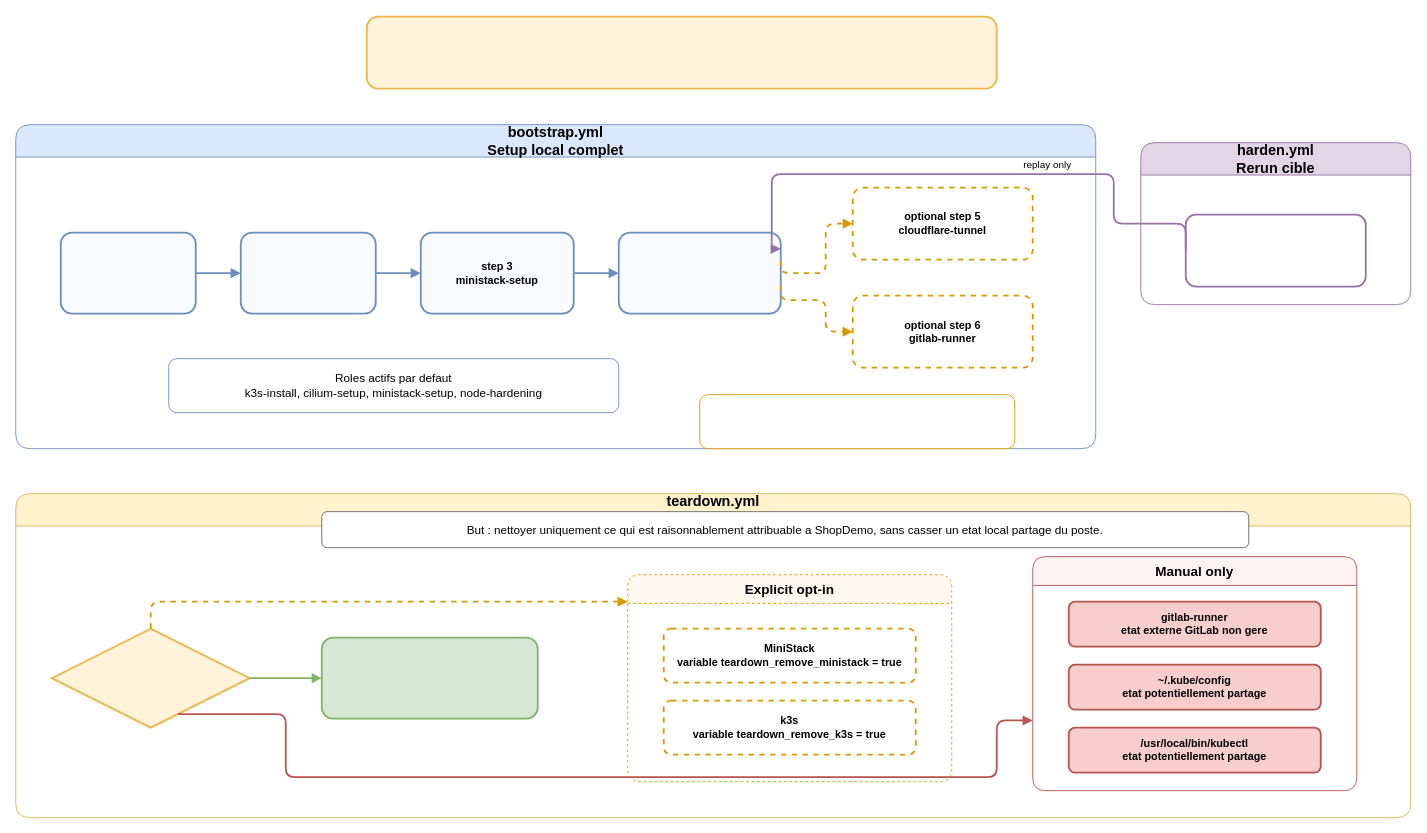
Image size: 1427x833. Some labels were removed from this diagram. Each missing label, with the centre of its shape:
node-hardening uniquement rejoue sans relancer tout le lab: (1275,250)
Orchestration locale Ansible Playbooks de reference du lab ShopDemo: (681,52)
Pre-check confirmation explicite requise: (150,677)
Roles optionnels desactives par defaut, actives via variables bootstrap_enable: (857,421)
Safe by default cloudflared-shopdemo: (429,677)
step 1 k3s-install: (127,272)
step 2 cilium-setup: (307,272)
step 4 node-hardening: (699,272)
